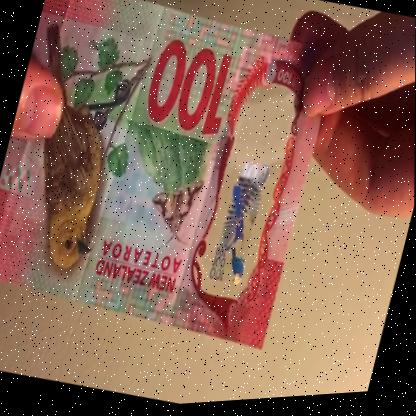100B: (201, 101, 292, 303)
